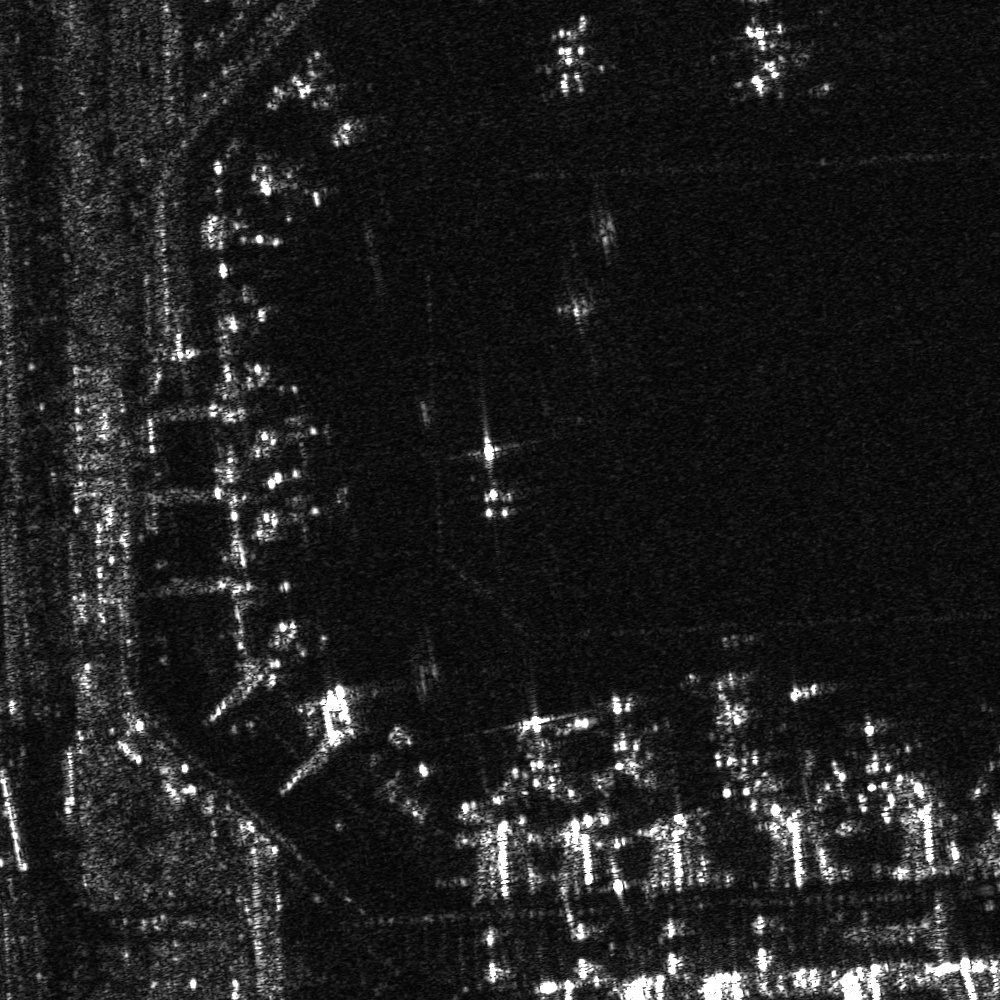A220: (485, 706, 583, 802), (263, 476, 357, 551), (287, 78, 378, 148), (253, 157, 339, 226), (256, 398, 341, 464)
A320/321: (690, 666, 792, 775), (826, 715, 917, 797)
Boeing737: (433, 433, 563, 523), (523, 9, 619, 103)
other: (585, 689, 681, 788), (552, 278, 614, 337)
